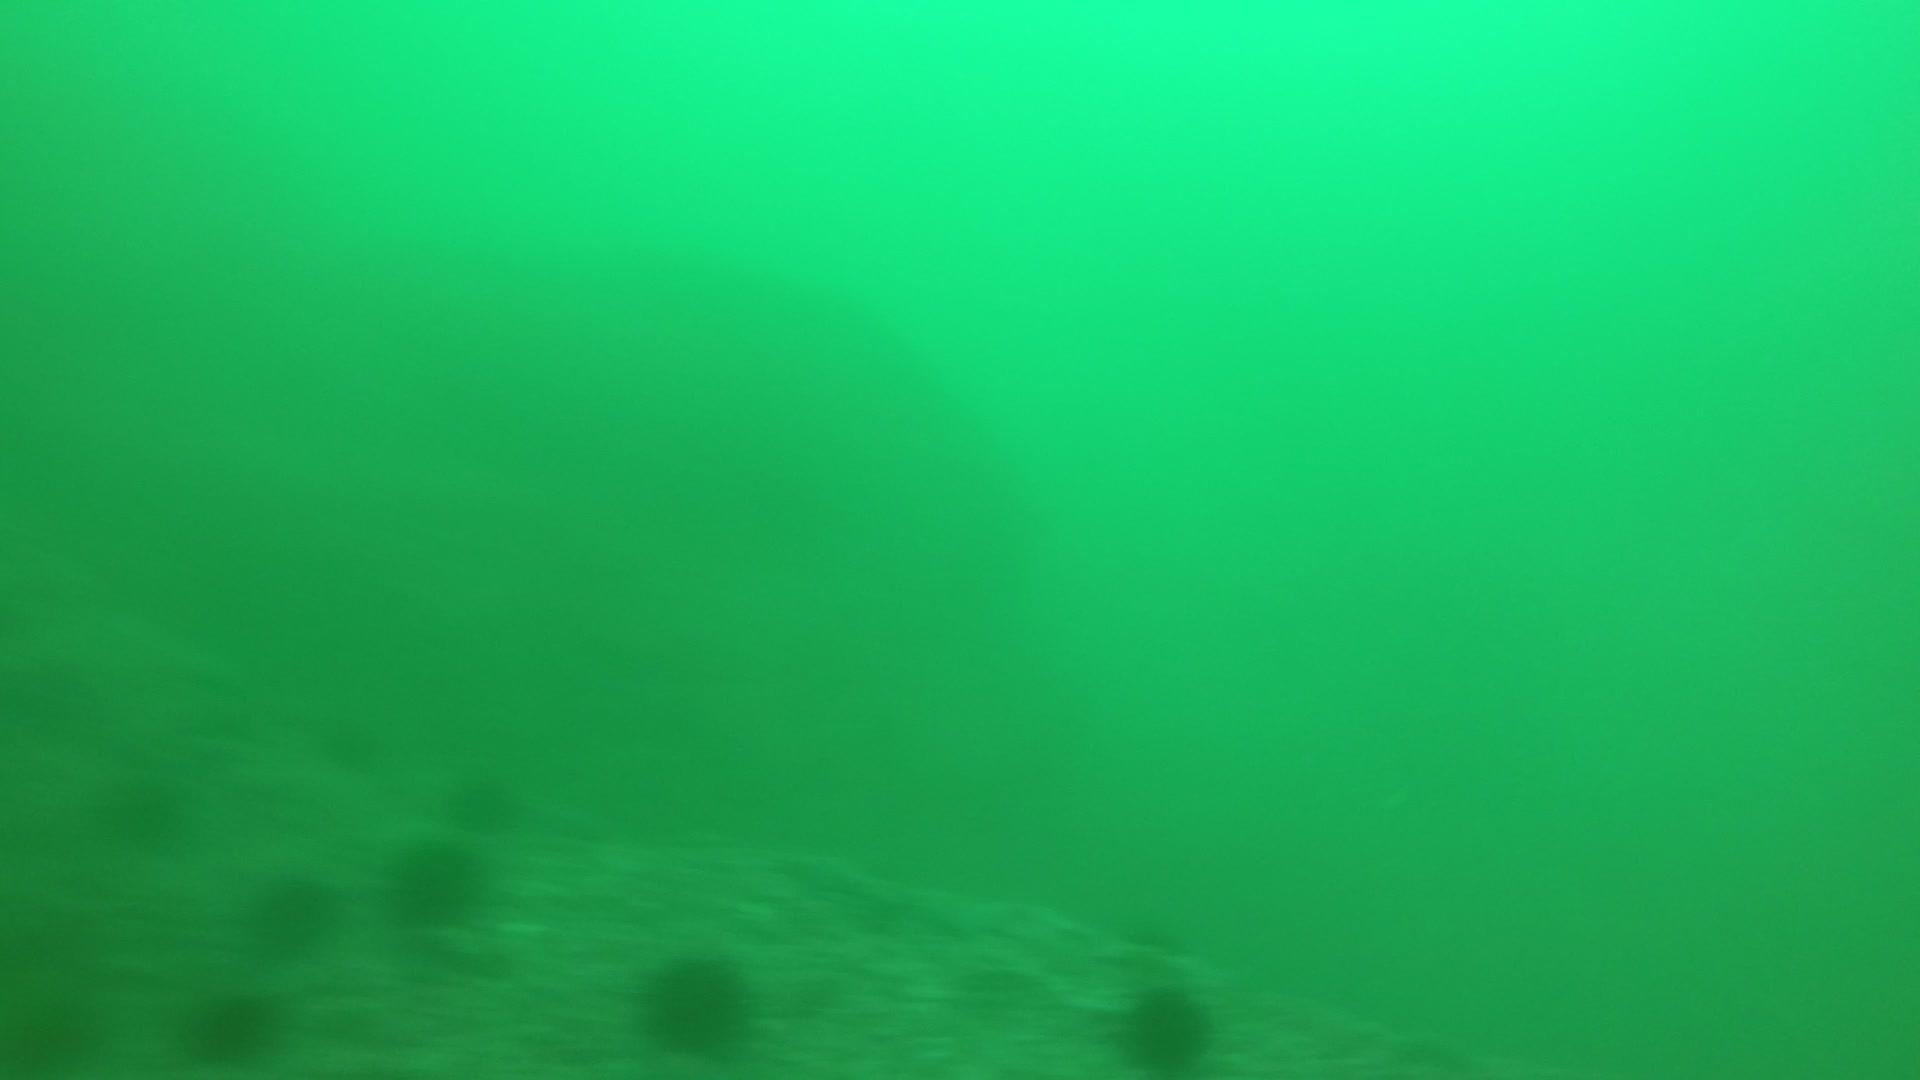echinus: (632, 945, 760, 1060), (382, 832, 493, 930), (1112, 978, 1218, 1071), (178, 981, 287, 1065), (91, 766, 191, 851), (245, 865, 339, 953), (301, 707, 382, 775), (440, 770, 522, 839)
